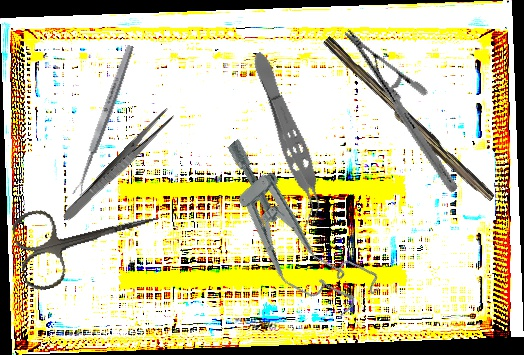Dressing Forceps: (60, 105, 177, 226)
Iris Scissors: (8, 181, 170, 294)
Needle Holder: (302, 26, 500, 195)
Scalpel Handle: (318, 35, 498, 206)
Speculum: (193, 128, 385, 333)
Surgical Spoon: (71, 43, 136, 198)
Tissue Forceps: (243, 47, 334, 229)
